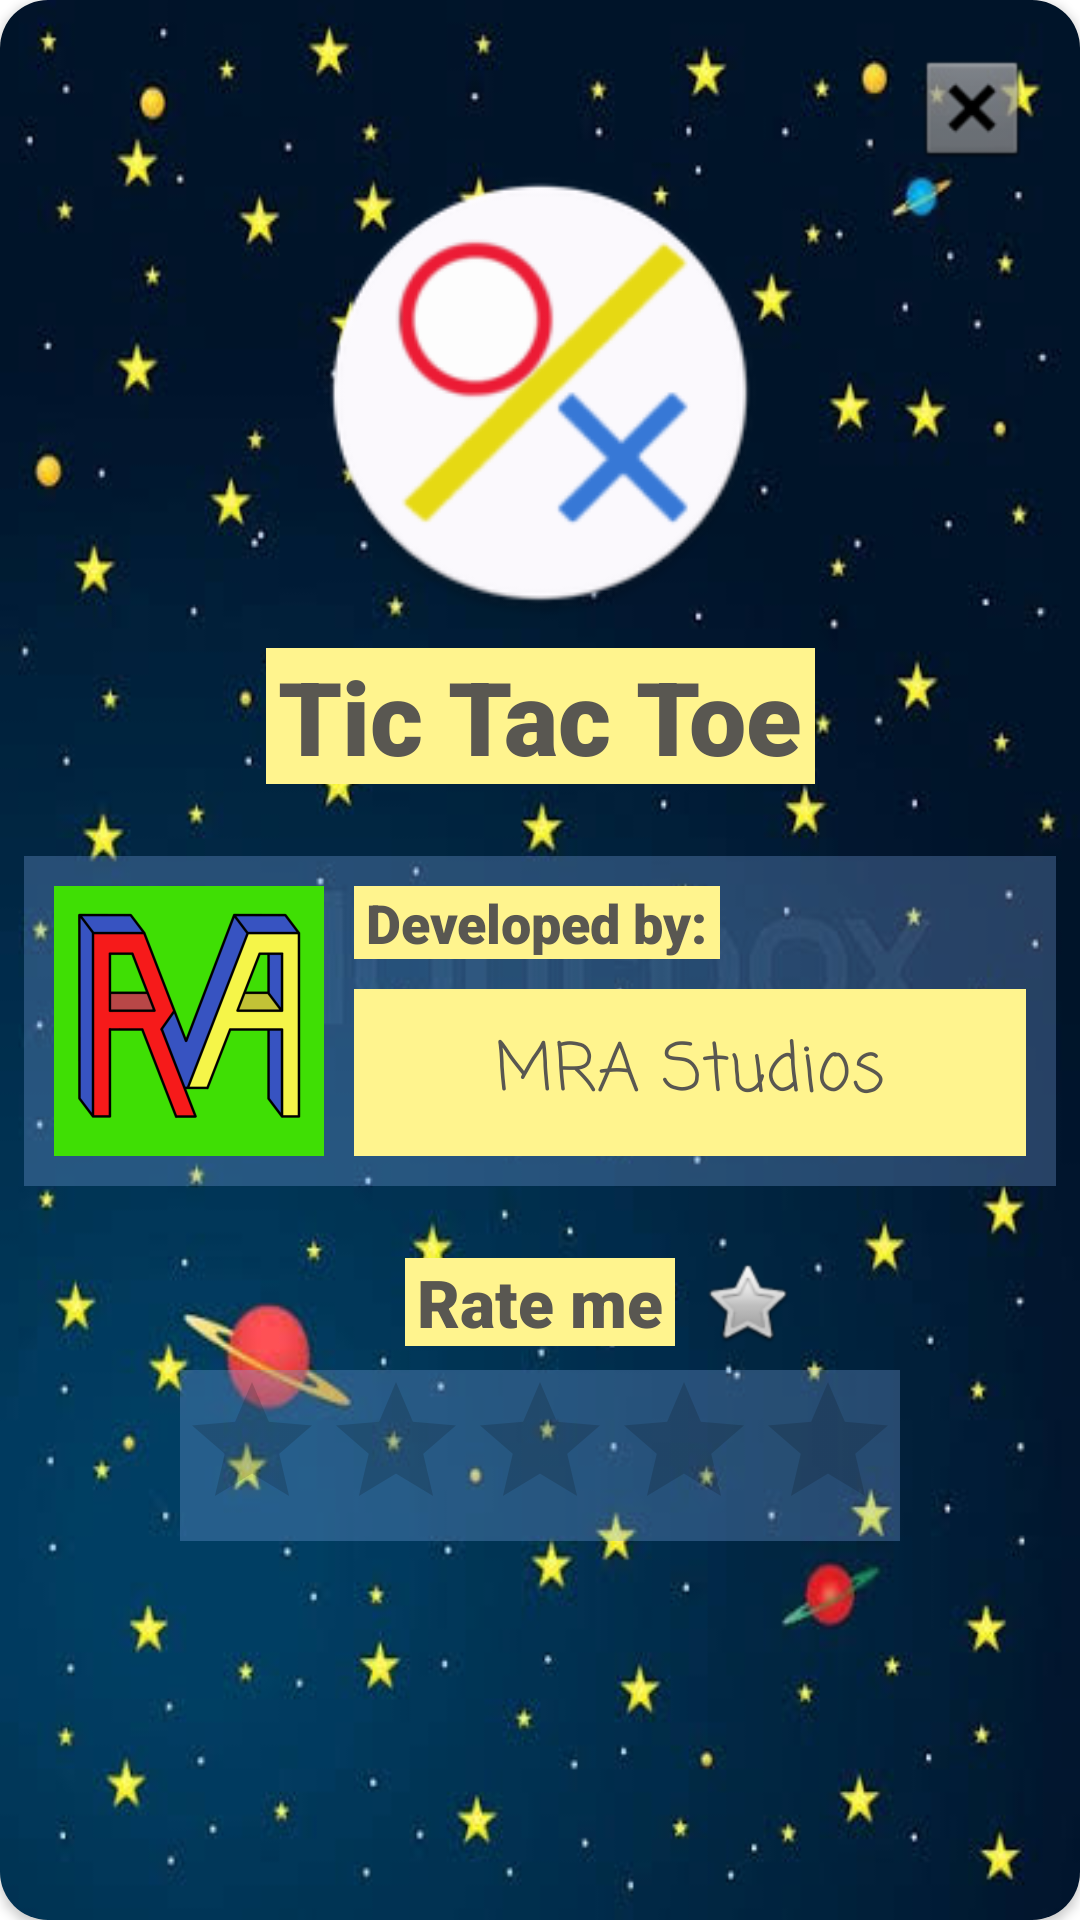

Icons on this 1080 x 1920 Android screen, each with its box as [x1,y1,x2,y2]:
Close: [926,62,1032,154]
